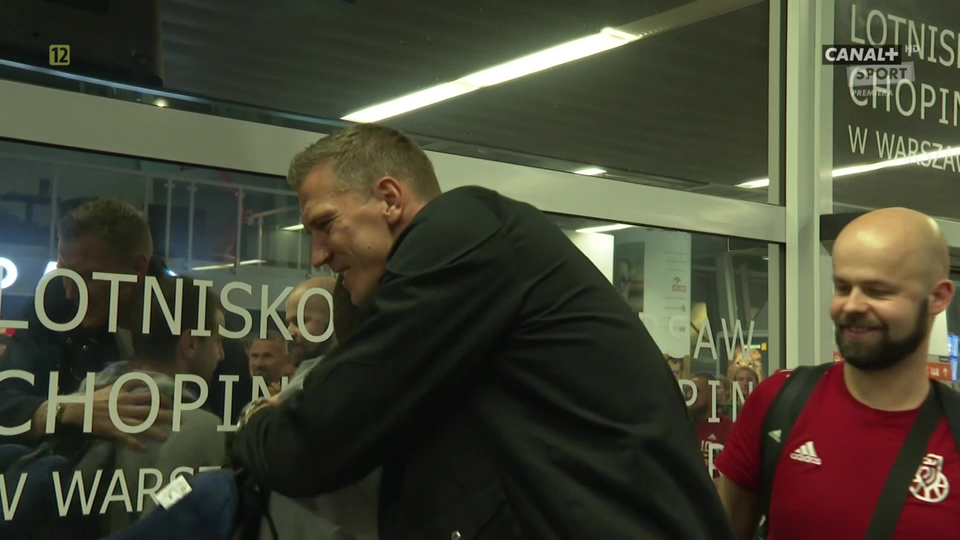Adidas: (789, 438, 825, 467)
